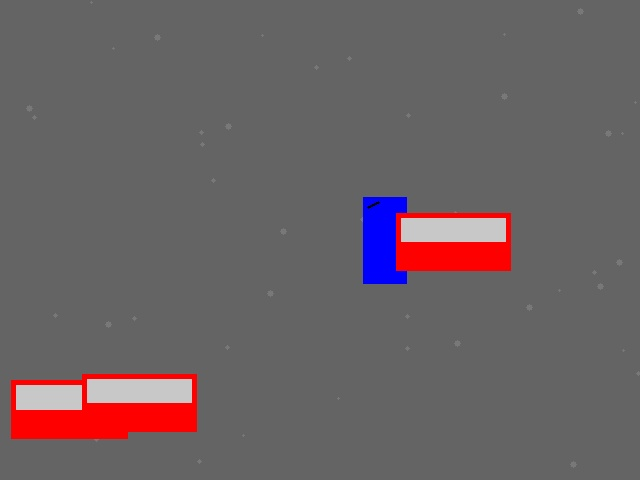car: (11, 380, 127, 438), (396, 213, 510, 270), (82, 374, 196, 431)
motorcycle: (363, 197, 406, 283)
